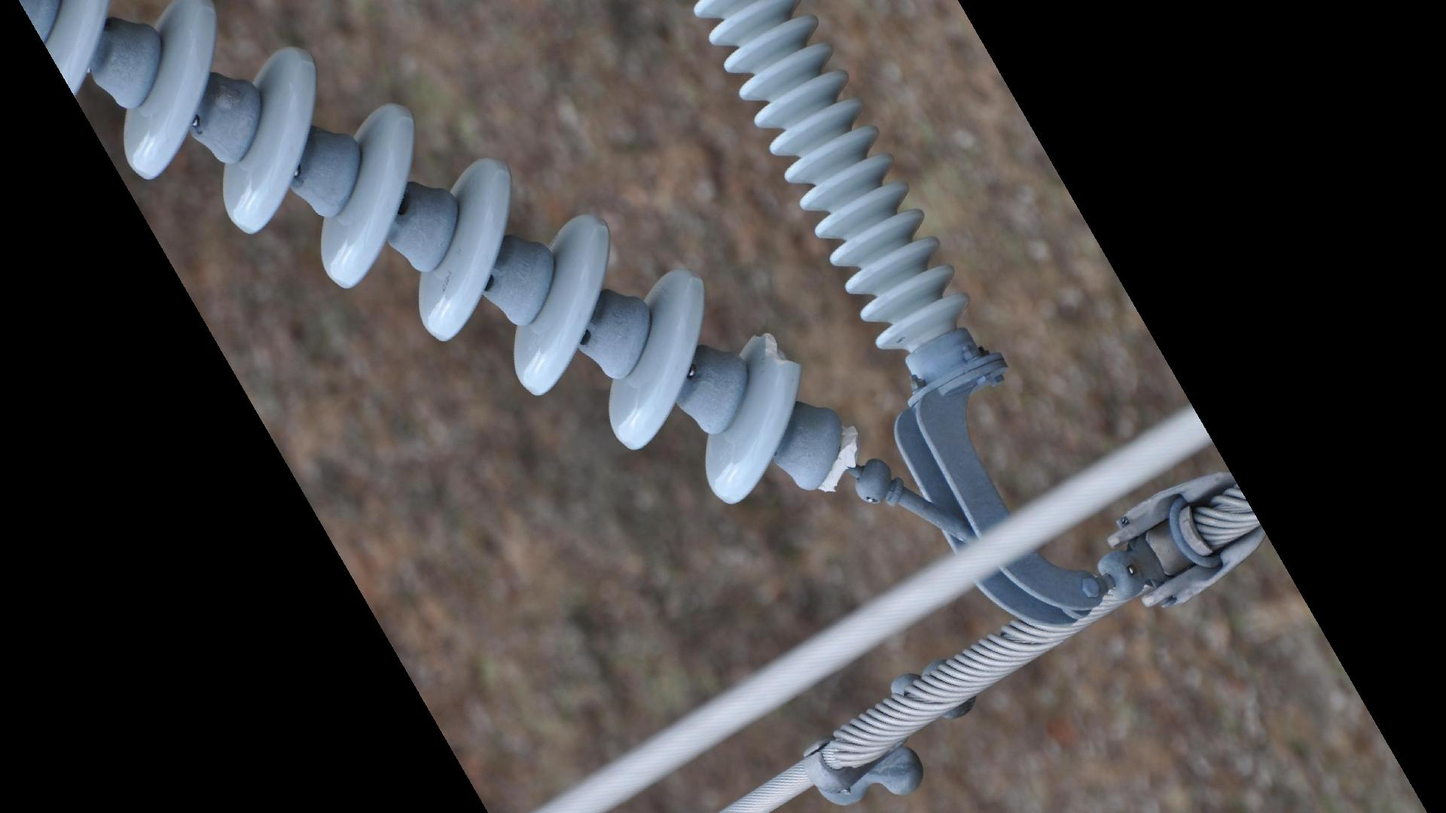insulator: (26, 1, 812, 516), (686, 1, 977, 362)
insulator_breakage: (731, 319, 810, 386)
